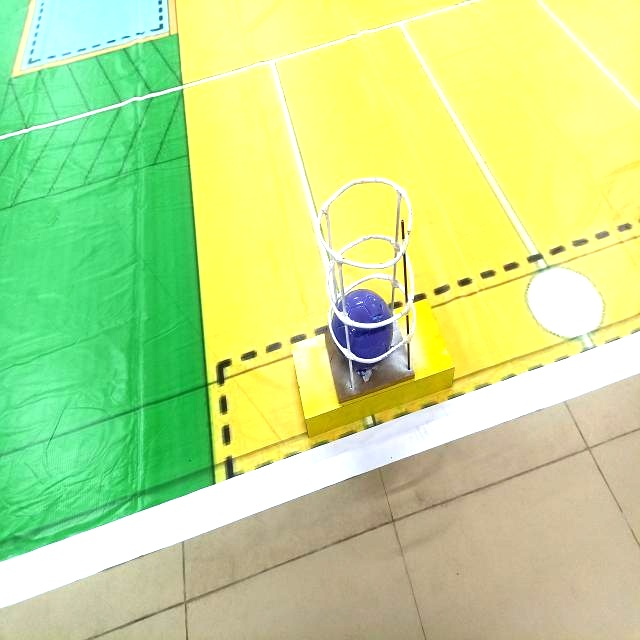purple_ball: (332, 290, 393, 368)
silo: (316, 173, 418, 392)
